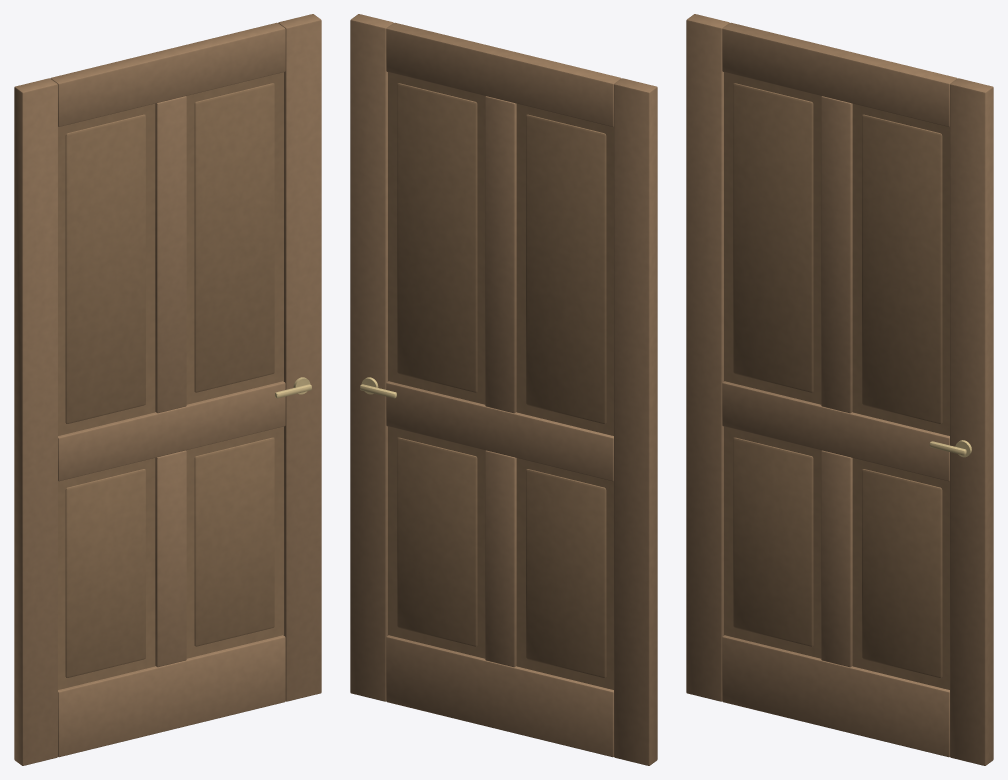
The model's file is SM_WoodDoor.fbx.
The picture shows the model from 3 angles, left to right: view 1: azimuth 30°, elevation 25°; view 2: azimuth 150°, elevation 25°; view 3: azimuth 330°, elevation 25°; orthographic projection.
Parts seen in each view (by area): view 1: SM_WoodDoor; view 2: SM_WoodDoor; view 3: SM_WoodDoor.
Part boxes in pixels (box(x1,y1,x2,y2)): SM_WoodDoor: box(14, 14, 321, 765); SM_WoodDoor: box(350, 14, 657, 765); SM_WoodDoor: box(686, 14, 993, 765).
Size of what is drawn, in the model's own units: 1 by 2.15 by 0.116.
Materials: 1 (1 with a texture image).
